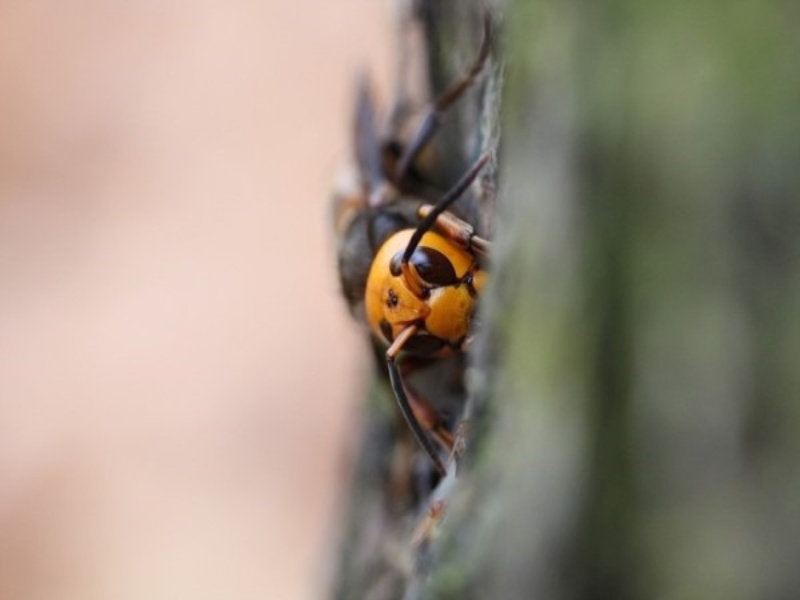asian_giant_hornet: (331, 100, 503, 380)
